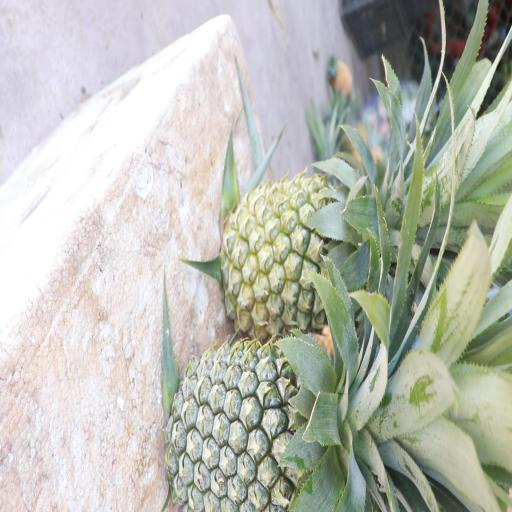Pineapple - v8 v1: (225, 167, 406, 333)
